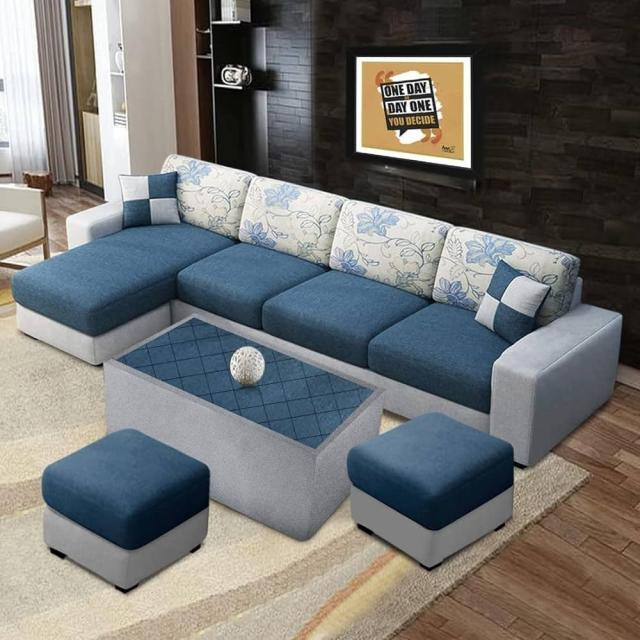sofa: (10, 152, 623, 468)
